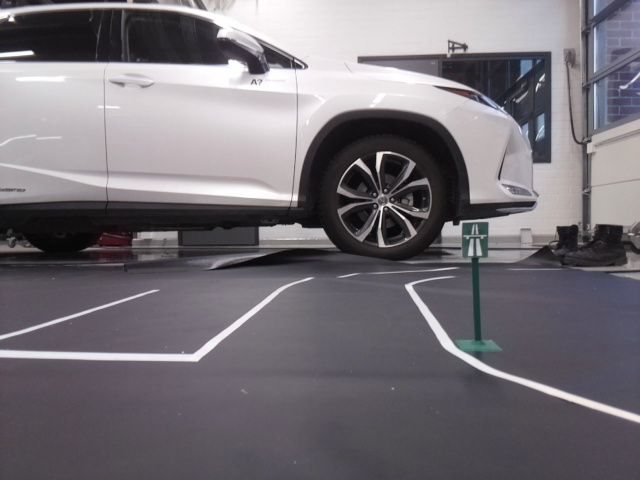HighwayEntrance: (462, 221, 488, 259)
